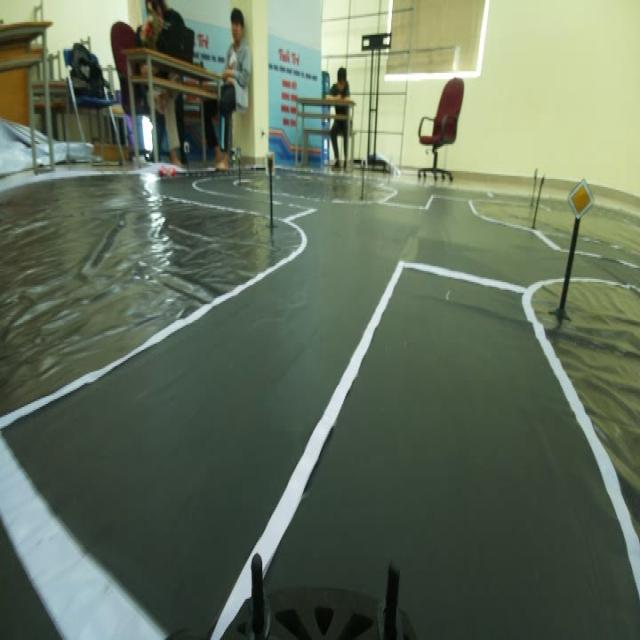priority: (564, 174, 596, 222)
